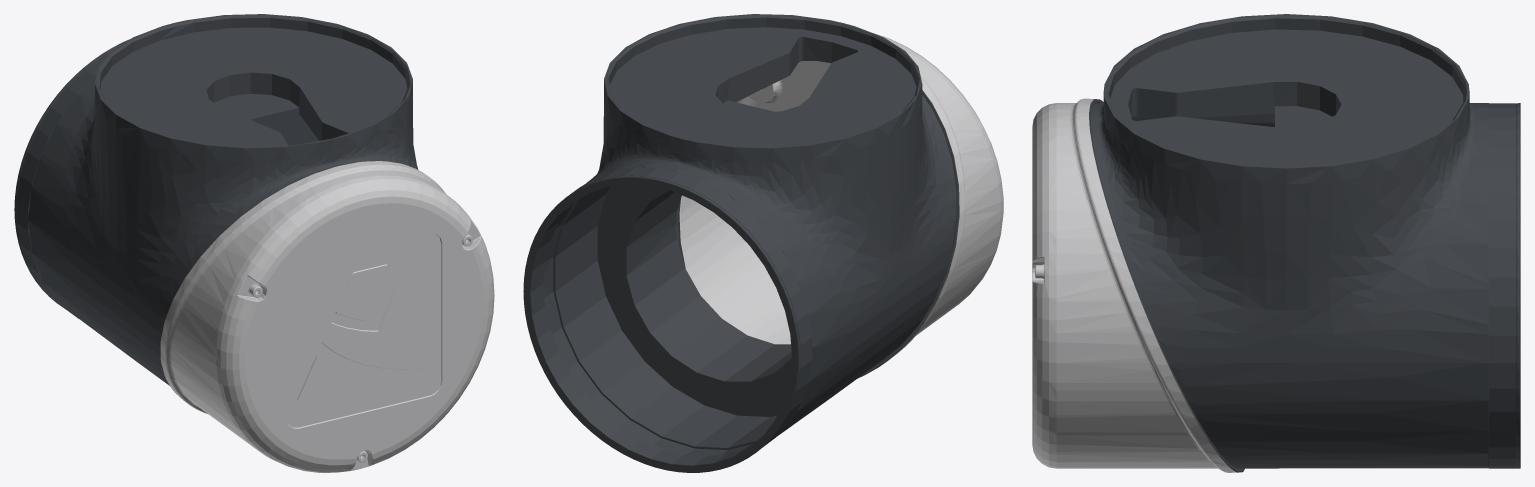
File: ARM2.obj
3 views of the same model, side by side, from view 1: azimuth 30°, elevation 25°; view 2: azimuth 150°, elevation 25°; view 3: azimuth 270°, elevation 25° (orthographic). The views are drawn at different scales.
Visible parts, largest first — view 1: GBT-C12A-400.00-2; view 2: GBT-C12A-400.00-2; view 3: GBT-C12A-400.00-2.
Part boxes in pixels (x1,y1,x2,y2): GBT-C12A-400.00-2: (14,14,494,472); GBT-C12A-400.00-2: (523,14,1003,472); GBT-C12A-400.00-2: (1032,14,1520,472).
Size of the model in its own units: 154 by 165 by 200.
1 material, 1 textured.
